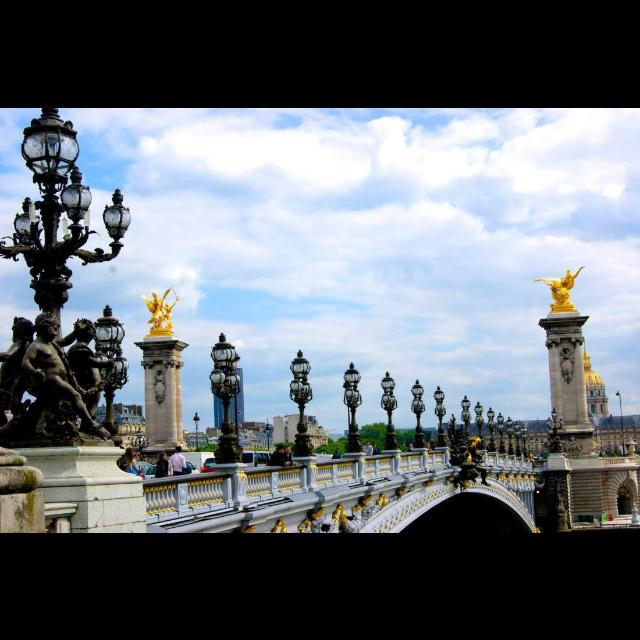head: (284, 446, 292, 454), (127, 448, 135, 456), (160, 452, 167, 460), (175, 446, 182, 454), (278, 446, 284, 454), (372, 442, 378, 448), (366, 440, 370, 446), (411, 444, 414, 448), (336, 451, 338, 454)
person: (166, 446, 194, 506), (117, 446, 141, 506), (264, 444, 292, 494), (279, 444, 299, 494), (155, 449, 171, 509), (368, 441, 382, 475), (362, 440, 374, 476), (331, 450, 341, 480), (407, 443, 417, 472)
